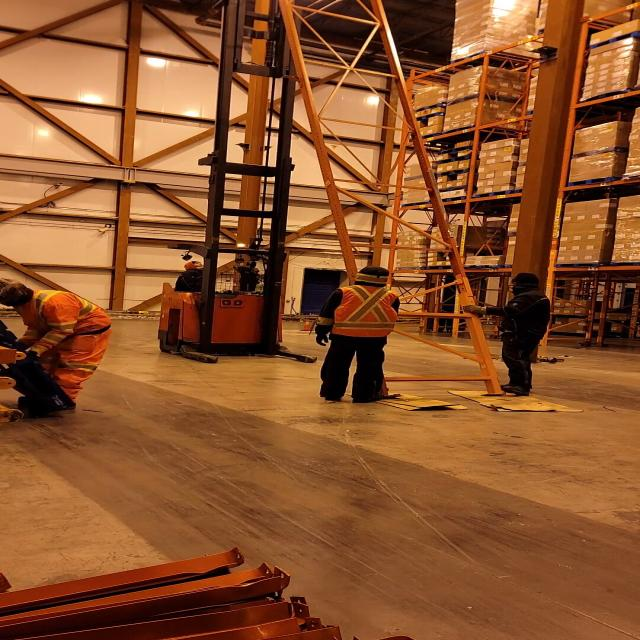forklift: (156, 153, 322, 365)
human: (0, 276, 122, 422), (310, 266, 402, 405), (459, 272, 552, 397), (166, 259, 234, 293)
objectofinterest: (271, 0, 513, 400), (0, 323, 88, 414), (444, 384, 585, 414), (348, 387, 472, 412)
